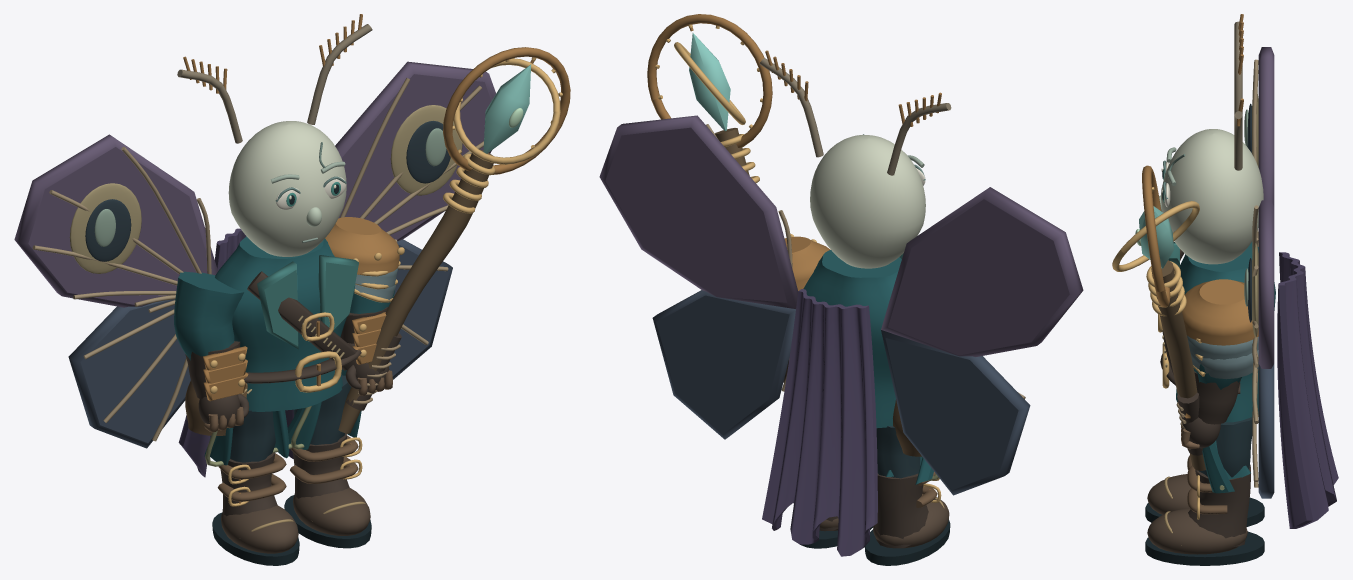
The model's file is Enemy2.obj.
3 views of the same model, side by side, from view 1: azimuth 30°, elevation 25°; view 2: azimuth 150°, elevation 25°; view 3: azimuth 270°, elevation 25° (orthographic).
Visible parts, largest first — view 1: Enemy2(Clone)__Rig__Body__WingL__Sculpt_render, Enemy2(Clone)__Rig__Body__Sculpt_render, Enemy2(Clone)__Rig__Body__WingR__Sculpt_render, Enemy2(Clone)__Rig__Body__Head__Sculpt_render, Enemy2(Clone)__Rig__Body__ArmR__Forearm__Weapon__Sculpt_render, Enemy2(Clone)__Rig__LegR__Shin__Sculpt_render, Enemy2(Clone)__Rig__LegL__Shin__Sculpt_render, Enemy2(Clone)__Rig__Body__ArmR__Sculpt_render, Enemy2(Clone)__Rig__Body__ArmL__Sculpt_render, Enemy2(Clone)__Rig__Body__ArmL__Forearm__Sculpt_render, Enemy2(Clone)__Rig__Body__ArmR__Forearm__Sculpt_render, Enemy2(Clone)__Rig__LegL__Sculpt_render (+2 smaller); view 2: Enemy2(Clone)__Rig__Body__WingR__Sculpt_render, Enemy2(Clone)__Rig__Body__WingL__Sculpt_render, Enemy2(Clone)__Rig__Body__ScarfTail__Sculpt_render, Enemy2(Clone)__Rig__Body__Head__Sculpt_render, Enemy2(Clone)__Rig__Body__ArmR__Forearm__Weapon__Sculpt_render, Enemy2(Clone)__Rig__Body__Sculpt_render, Enemy2(Clone)__Rig__LegL__Shin__Sculpt_render, Enemy2(Clone)__Rig__LegL__Sculpt_render, Enemy2(Clone)__Rig__Body__ArmR__Sculpt_render, Enemy2(Clone)__Rig__LegR__Shin__Sculpt_render; view 3: Enemy2(Clone)__Rig__Body__Head__Sculpt_render, Enemy2(Clone)__Rig__Body__ScarfTail__Sculpt_render, Enemy2(Clone)__Rig__Body__ArmR__Forearm__Weapon__Sculpt_render, Enemy2(Clone)__Rig__LegR__Shin__Sculpt_render, Enemy2(Clone)__Rig__Body__WingR__Sculpt_render, Enemy2(Clone)__Rig__Body__ArmR__Sculpt_render, Enemy2(Clone)__Rig__Body__Sculpt_render, Enemy2(Clone)__Rig__Body__WingL__Sculpt_render, Enemy2(Clone)__Rig__Body__ArmR__Forearm__Sculpt_render, Enemy2(Clone)__Rig__LegL__Shin__Sculpt_render, Enemy2(Clone)__Rig__LegR__Sculpt_render.
Boxes of the visible parts, bbox=[...] form: Enemy2(Clone)__Rig__Body__WingL__Sculpt_render: bbox=[14, 134, 217, 448]; Enemy2(Clone)__Rig__Body__Sculpt_render: bbox=[185, 236, 361, 466]; Enemy2(Clone)__Rig__Body__WingR__Sculpt_render: bbox=[335, 61, 495, 379]; Enemy2(Clone)__Rig__Body__Head__Sculpt_render: bbox=[177, 14, 372, 256]; Enemy2(Clone)__Rig__Body__ArmR__Forearm__Weapon__Sculpt_render: bbox=[338, 47, 570, 433]; Enemy2(Clone)__Rig__LegR__Shin__Sculpt_render: bbox=[284, 433, 371, 548]; Enemy2(Clone)__Rig__LegL__Shin__Sculpt_render: bbox=[212, 452, 299, 565]; Enemy2(Clone)__Rig__Body__ArmR__Sculpt_render: bbox=[325, 217, 404, 313]; Enemy2(Clone)__Rig__Body__ArmL__Sculpt_render: bbox=[174, 271, 243, 360]; Enemy2(Clone)__Rig__Body__ArmL__Forearm__Sculpt_render: bbox=[185, 341, 249, 432]; Enemy2(Clone)__Rig__Body__ArmR__Forearm__Sculpt_render: bbox=[340, 307, 392, 395]; Enemy2(Clone)__Rig__LegL__Sculpt_render: bbox=[230, 410, 275, 462]; Enemy2(Clone)__Rig__Body__WingR__Sculpt_render: bbox=[599, 115, 798, 439]; Enemy2(Clone)__Rig__Body__WingL__Sculpt_render: bbox=[881, 187, 1083, 495]; Enemy2(Clone)__Rig__Body__ScarfTail__Sculpt_render: bbox=[762, 289, 877, 556]; Enemy2(Clone)__Rig__Body__Head__Sculpt_render: bbox=[759, 50, 951, 268]; Enemy2(Clone)__Rig__Body__ArmR__Forearm__Weapon__Sculpt_render: bbox=[647, 14, 772, 183]; Enemy2(Clone)__Rig__Body__Sculpt_render: bbox=[803, 250, 938, 484]; Enemy2(Clone)__Rig__LegL__Shin__Sculpt_render: bbox=[864, 472, 950, 565]; Enemy2(Clone)__Rig__LegL__Sculpt_render: bbox=[876, 426, 920, 478]; Enemy2(Clone)__Rig__Body__ArmR__Sculpt_render: bbox=[784, 234, 830, 290]; Enemy2(Clone)__Rig__LegR__Shin__Sculpt_render: bbox=[800, 516, 873, 548]; Enemy2(Clone)__Rig__Body__Head__Sculpt_render: bbox=[1159, 14, 1263, 264]; Enemy2(Clone)__Rig__Body__ScarfTail__Sculpt_render: bbox=[1277, 252, 1338, 528]; Enemy2(Clone)__Rig__Body__ArmR__Forearm__Weapon__Sculpt_render: bbox=[1112, 165, 1205, 470]; Enemy2(Clone)__Rig__LegR__Shin__Sculpt_render: bbox=[1145, 464, 1264, 565]; Enemy2(Clone)__Rig__Body__WingR__Sculpt_render: bbox=[1244, 200, 1274, 498]; Enemy2(Clone)__Rig__Body__ArmR__Sculpt_render: bbox=[1182, 279, 1258, 389]; Enemy2(Clone)__Rig__Body__Sculpt_render: bbox=[1158, 242, 1275, 493]; Enemy2(Clone)__Rig__Body__WingL__Sculpt_render: bbox=[1244, 47, 1274, 246]; Enemy2(Clone)__Rig__Body__ArmR__Forearm__Sculpt_render: bbox=[1181, 371, 1240, 448]; Enemy2(Clone)__Rig__LegL__Shin__Sculpt_render: bbox=[1145, 455, 1264, 526]; Enemy2(Clone)__Rig__LegR__Sculpt_render: bbox=[1199, 417, 1252, 477].
Bounding box in the file's own units: 2.67 × 2.5 × 1.07.
